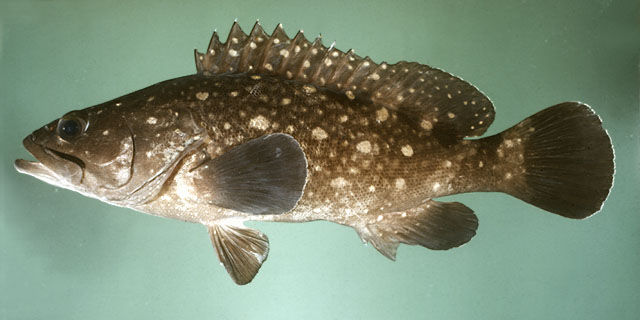fish: (14, 17, 616, 286)
